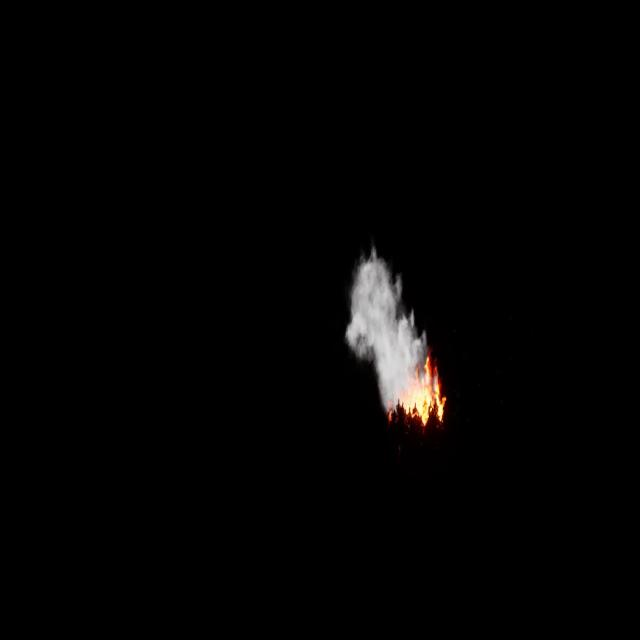fire: (400, 351, 448, 426)
smoke: (345, 246, 429, 404)
